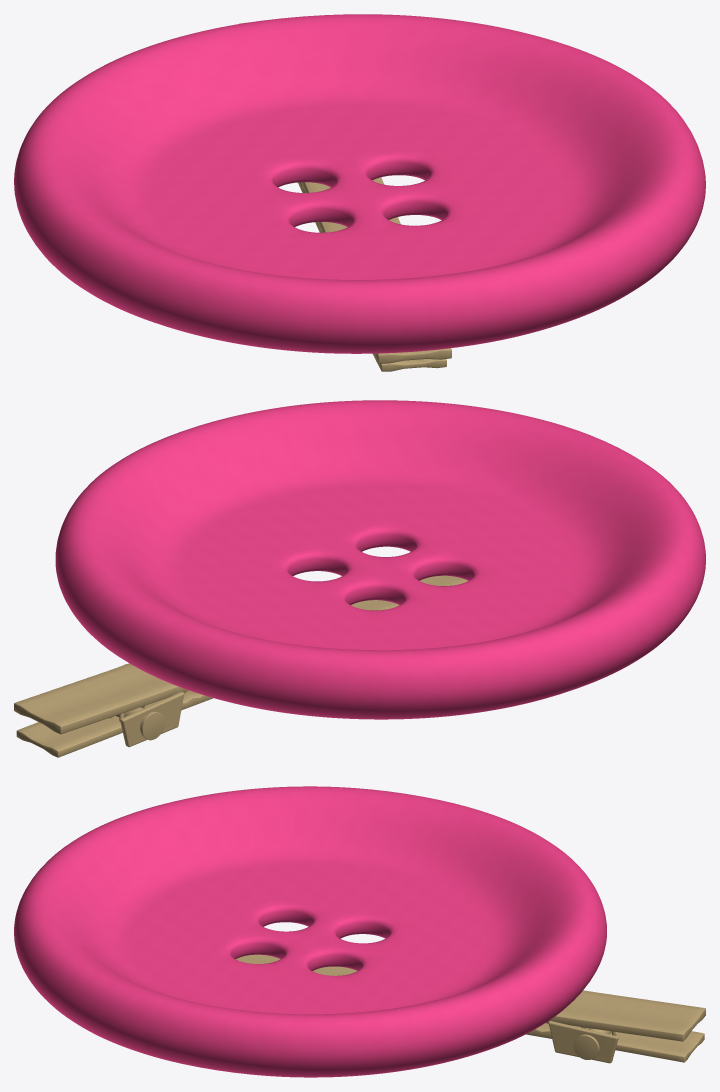
The model's file is HairClip_Original.glb.
3 views of the same model, one above another, from view 1: azimuth 30°, elevation 25°; view 2: azimuth 150°, elevation 25°; view 3: azimuth 270°, elevation 25° (orthographic). The views are drawn at different scales.
Parts seen in each view (by area): view 1: HairClip_Original__Pink_Four_Hole_Button, HairClip_Original__Fixed_Serrated_Jaw, HairClip_Original__Moving_Jaw_Static_Pose; view 2: HairClip_Original__Pink_Four_Hole_Button, HairClip_Original__Fixed_Serrated_Jaw, HairClip_Original__Moving_Jaw_Static_Pose, HairClip_Original__Pivot_Cheek_L, HairClip_Original__Pivot_Head_L; view 3: HairClip_Original__Pink_Four_Hole_Button, HairClip_Original__Fixed_Serrated_Jaw, HairClip_Original__Moving_Jaw_Static_Pose, HairClip_Original__Pivot_Cheek_R, HairClip_Original__Pivot_Head_R.
Boxes of the visible parts, <box> form: HairClip_Original__Pink_Four_Hole_Button: <box>14,14,705,353</box>; HairClip_Original__Fixed_Serrated_Jaw: <box>239,22,451,363</box>; HairClip_Original__Moving_Jaw_Static_Pose: <box>298,182,446,371</box>; HairClip_Original__Pink_Four_Hole_Button: <box>55,400,705,719</box>; HairClip_Original__Fixed_Serrated_Jaw: <box>14,575,467,734</box>; HairClip_Original__Moving_Jaw_Static_Pose: <box>16,690,213,757</box>; HairClip_Original__Pivot_Cheek_L: <box>120,692,184,747</box>; HairClip_Original__Pivot_Head_L: <box>140,711,164,740</box>; HairClip_Original__Pink_Four_Hole_Button: <box>14,786,606,1077</box>; HairClip_Original__Fixed_Serrated_Jaw: <box>236,954,705,1041</box>; HairClip_Original__Moving_Jaw_Static_Pose: <box>526,1023,704,1062</box>; HairClip_Original__Pivot_Cheek_R: <box>548,1021,618,1063</box>; HairClip_Original__Pivot_Head_R: <box>573,1034,599,1059</box>.
Bounding box in the file's own units: 39.88 × 7.19 × 46.53.
3 materials, 3 textured.
